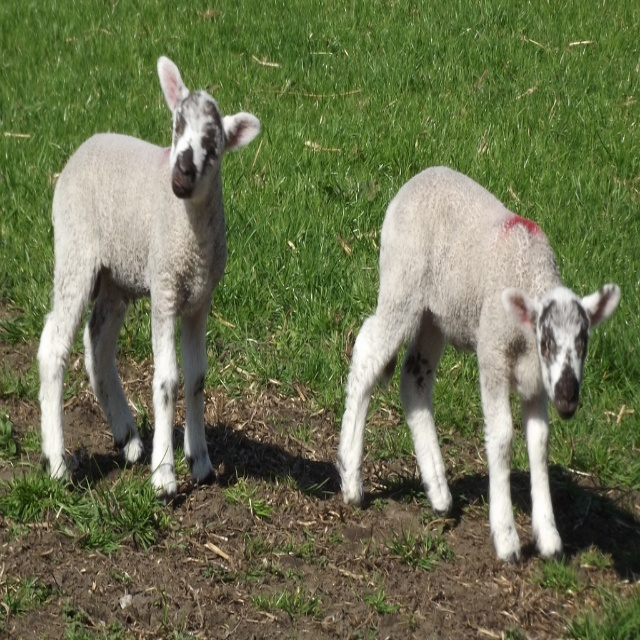Goat: (336, 166, 621, 566), (36, 56, 260, 498)
